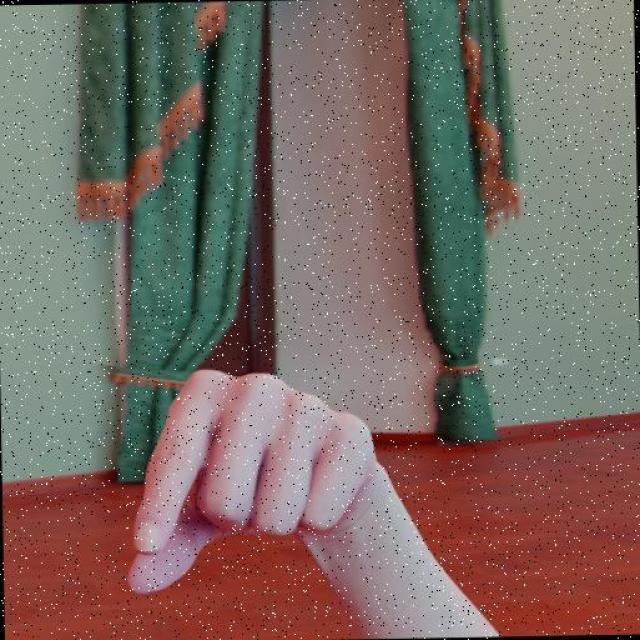Q: (121, 362, 392, 596)
